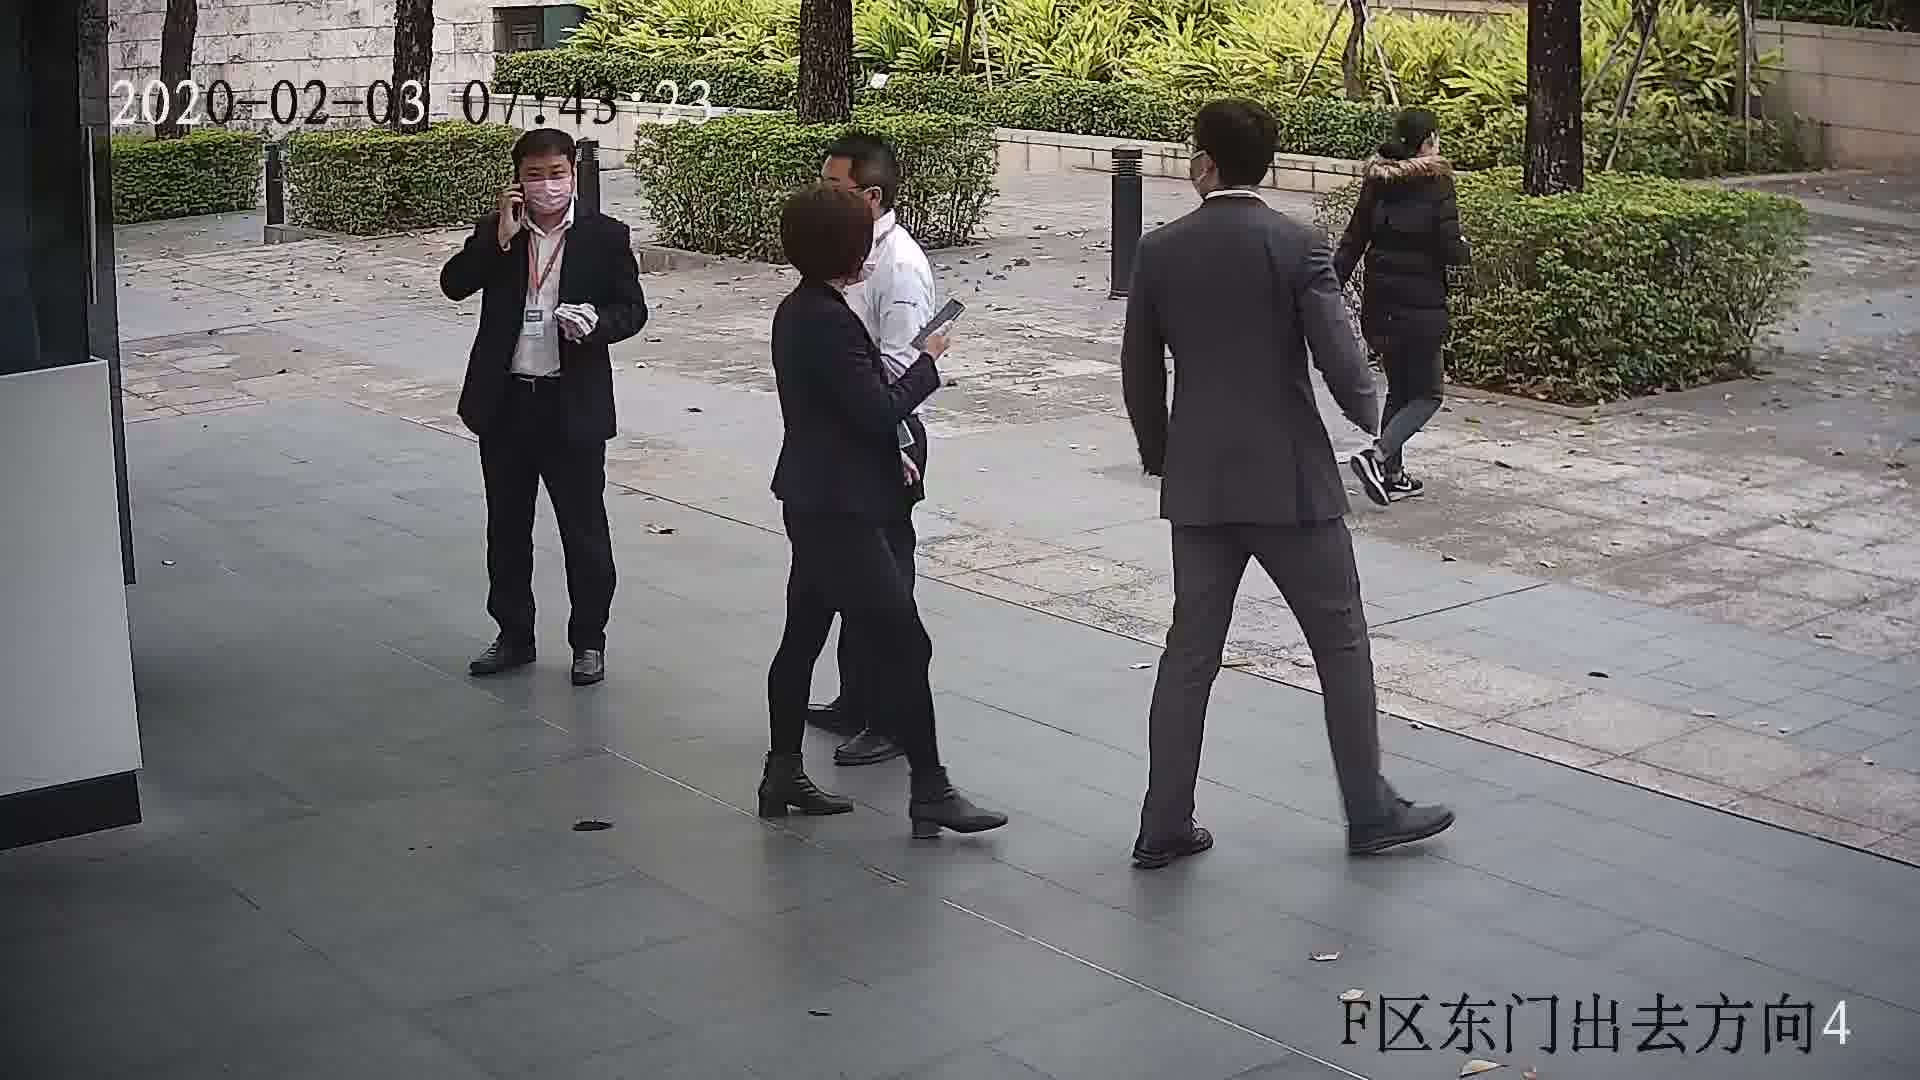face: (505, 151, 572, 217)
mask: (519, 175, 572, 217)
person: (1136, 96, 1329, 278), (470, 128, 633, 257), (769, 182, 880, 352), (831, 136, 938, 291), (1362, 107, 1460, 202)
